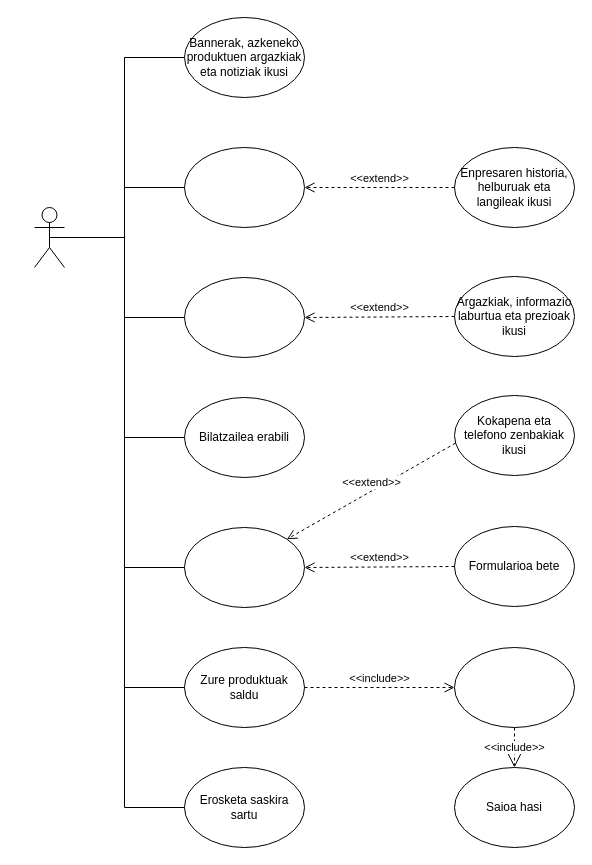
This 592x865 diagram has some shape labels left out. Each missing label, with the centre of its shape:
"Enpresaren kontaktuak ikusi" goes at point 244,567.
"Erabiltzailea" goes at point 49,237.
"Nor gara atalera sartu" goes at point 244,187.
"Produktuaren informazioarekin formularioa bete" goes at point 514,687.
"Produktuen katalogoa ikusi" goes at point 244,317.
